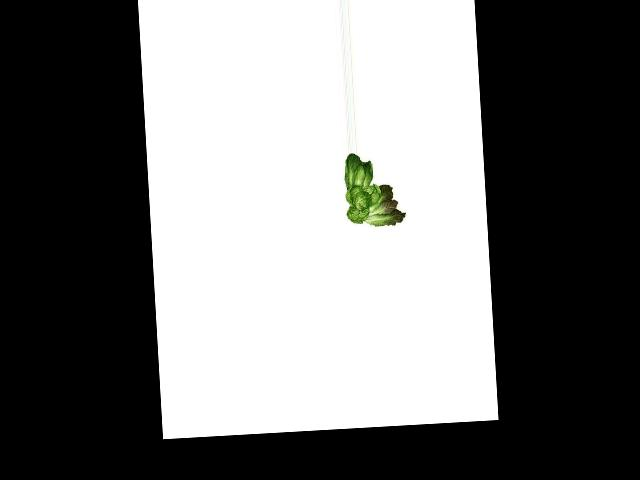lettuce: (339, 149, 410, 229)
